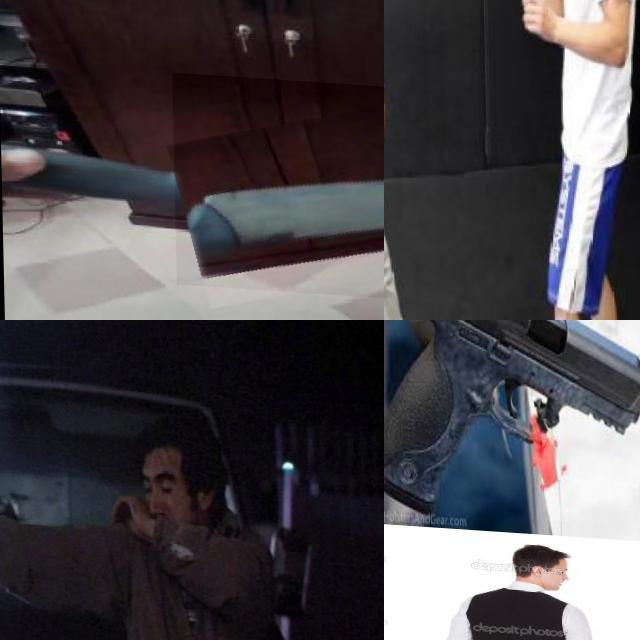-: (171, 70, 384, 303), (384, 171, 430, 254)
gun-knife-thesis - v11 Yolov5 augmented: (384, 320, 640, 505), (384, 503, 543, 640), (384, 342, 467, 518), (384, 320, 466, 434), (0, 471, 55, 581)
